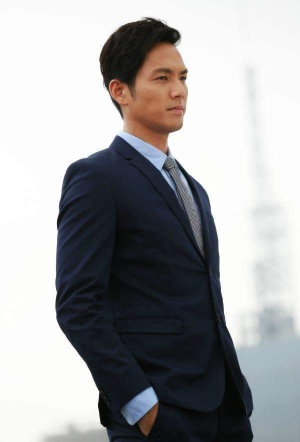male: (88, 4, 210, 147)
